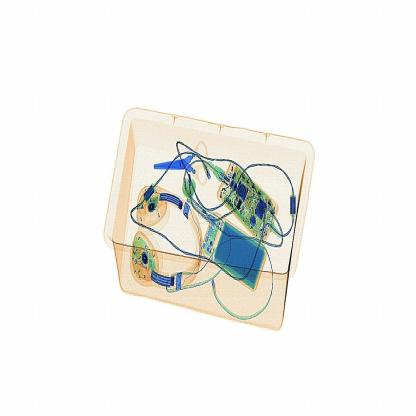gun: (147, 134, 226, 198)
